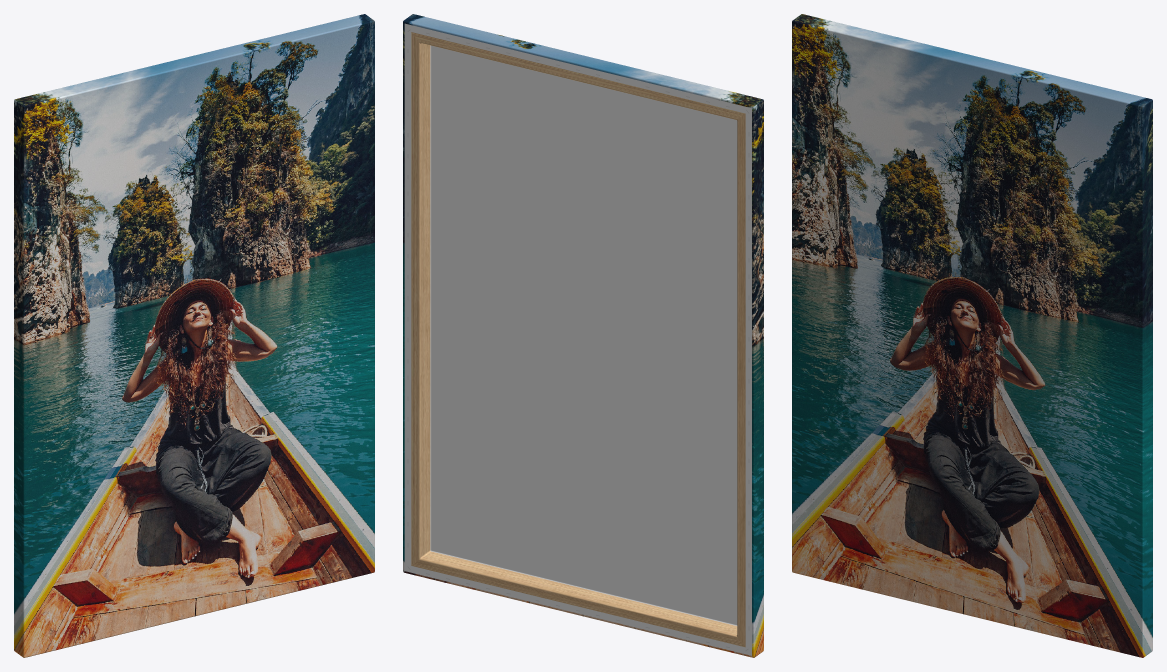
File: canvas-120x80x4cm-portrait-motif.glb
The picture shows the model from 3 angles, left to right: view 1: azimuth 30°, elevation 25°; view 2: azimuth 150°, elevation 25°; view 3: azimuth 330°, elevation 25°; orthographic projection.
Visible parts, largest first — view 1: Product; view 2: Product, Staples; view 3: Product.
Boxes of the visible parts, <box> form: Product: <box>14,14,374,657</box>; Product: <box>403,14,763,657</box>; Staples: <box>407,29,749,650</box>; Product: <box>792,14,1152,657</box>.
Size of the model in its own units: 0.8 by 1.2 by 0.0405.
Materials: 4 (2 with a texture image).
